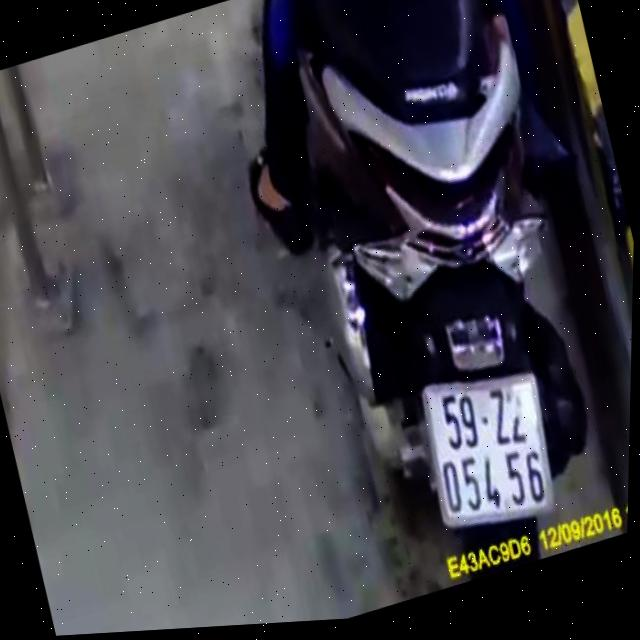motorcycle: (245, 0, 638, 603)
plate: (407, 345, 565, 547)
